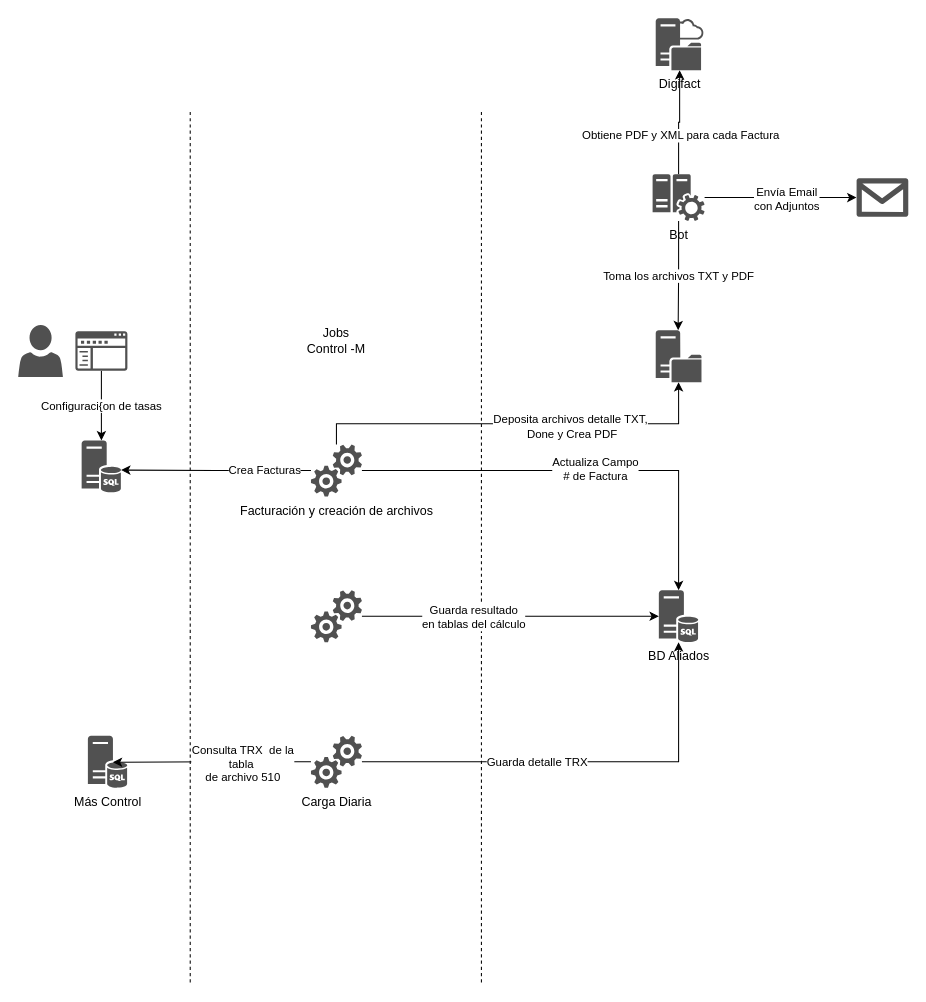
Some shapes in this 926 by 1002 pixel diagram are drawn without their labels. Each missing label, with the centre of its shape:
Cálculo Comisiones: (335,616)
Oracle EBS: (101,466)
OS Aliados: (678,356)
